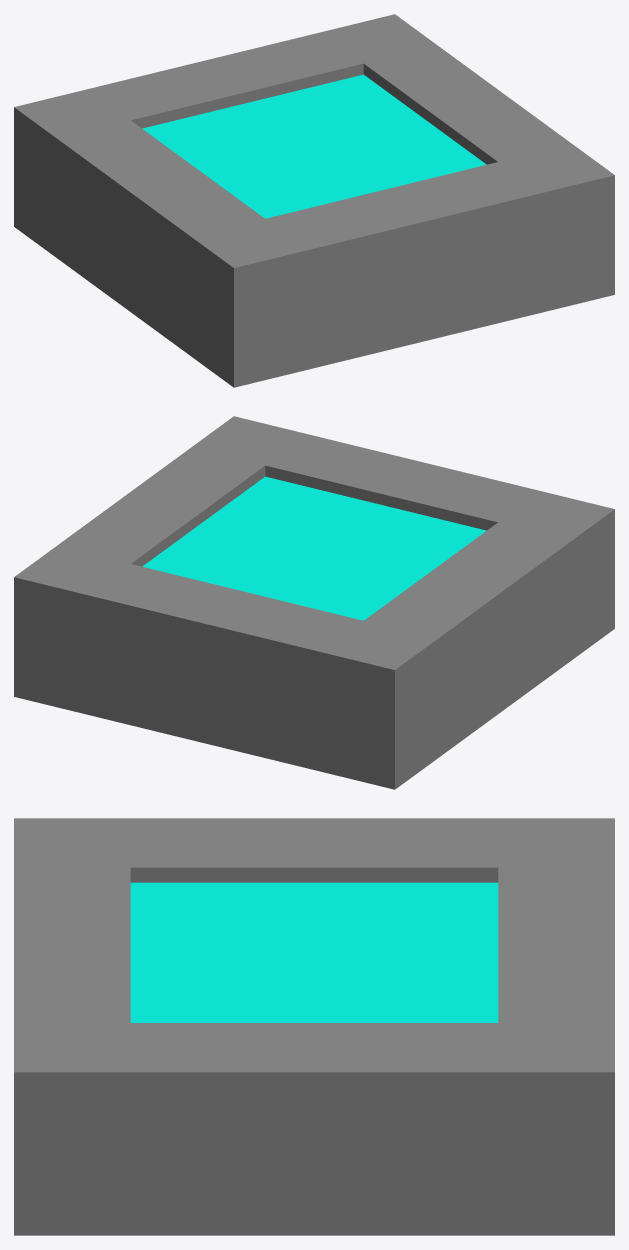
Rendered from CyborgFacility_FloorTile_001.fbx.
The picture shows the model from 3 angles, top to bottom: view 1: azimuth 30°, elevation 25°; view 2: azimuth 150°, elevation 25°; view 3: azimuth 270°, elevation 25°; orthographic projection. The views are drawn at different scales.
Visible parts, largest first — view 1: Cube.001; view 2: Cube.001; view 3: Cube.001.
Boxes of the visible parts, x1,y1,x2,y2 form: Cube.001: [14, 14, 614, 387]; Cube.001: [14, 416, 614, 789]; Cube.001: [14, 818, 614, 1235].
Bounding box in the file's own units: 100 × 100 × 30.
Materials: 1 (1 with a texture image).
